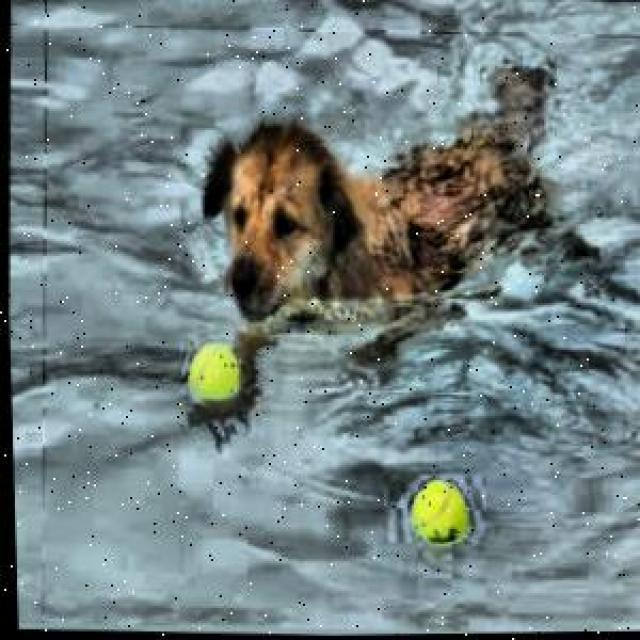tennis-ball: (407, 478, 472, 548), (182, 344, 244, 404)
